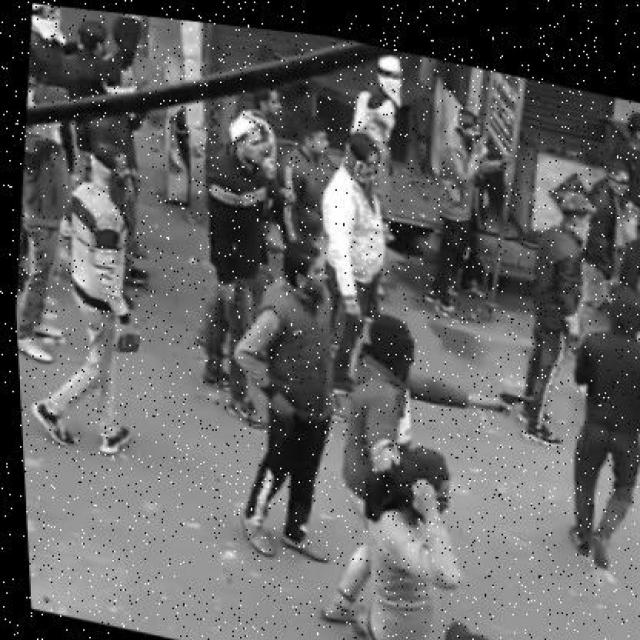weapon: (494, 390, 537, 416)
